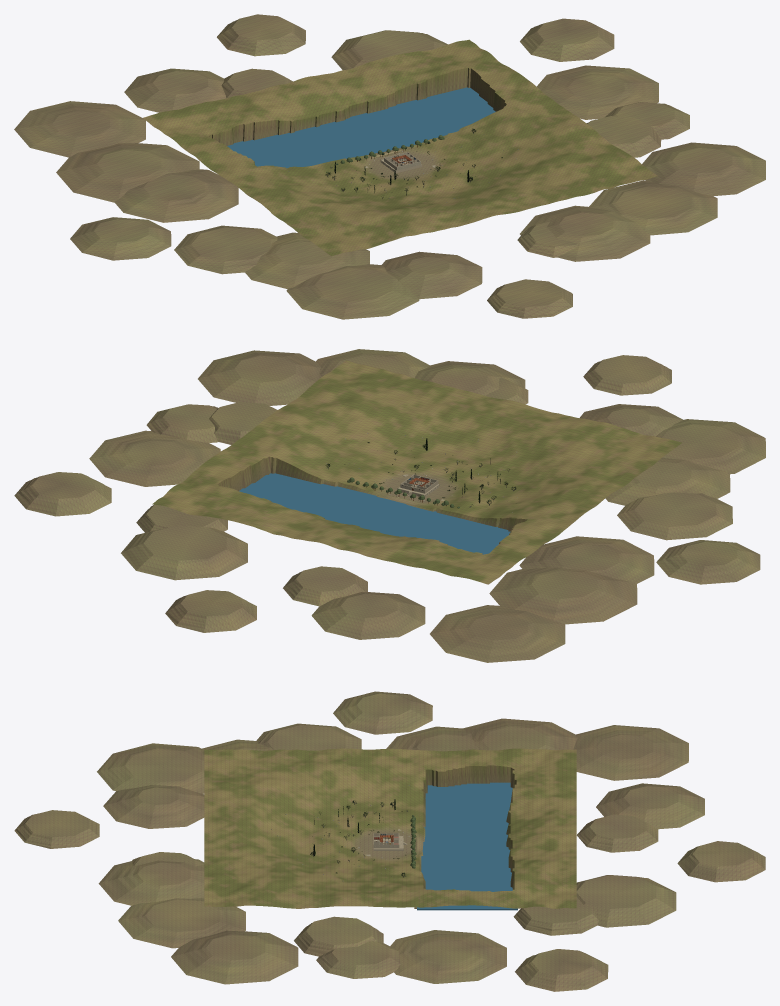
The model's file is zeugma-villa-baked.glb.
3 views of the same model, one above another, from view 1: azimuth 30°, elevation 25°; view 2: azimuth 150°, elevation 25°; view 3: azimuth 270°, elevation 25° (orthographic). The views are drawn at different scales.
Visible parts, largest first — view 1: zeugma-villa-ground, zeugma-villa-terrain, zeugma-villa-near; view 2: zeugma-villa-ground, zeugma-villa-terrain, zeugma-villa-near; view 3: zeugma-villa-ground, zeugma-villa-terrain, zeugma-villa-near.
Boxes of the visible parts, x1,y1,x2,y2 form: zeugma-villa-ground: [14, 17, 765, 319]; zeugma-villa-terrain: [143, 39, 657, 255]; zeugma-villa-near: [52, 14, 732, 301]; zeugma-villa-ground: [14, 349, 765, 662]; zeugma-villa-terrain: [152, 360, 681, 584]; zeugma-villa-near: [32, 355, 738, 640]; zeugma-villa-ground: [14, 691, 765, 991]; zeugma-villa-terrain: [204, 748, 576, 908]; zeugma-villa-near: [125, 725, 751, 974].
Bounding box in the file's own units: 843 × 30.11 × 893.
24 materials, 19 textured.
